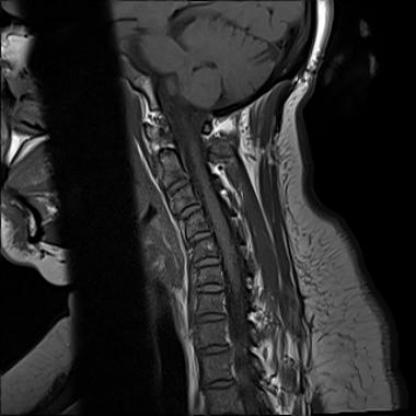Disc Bulgerotation: (190, 254, 224, 270), (185, 229, 217, 244)
